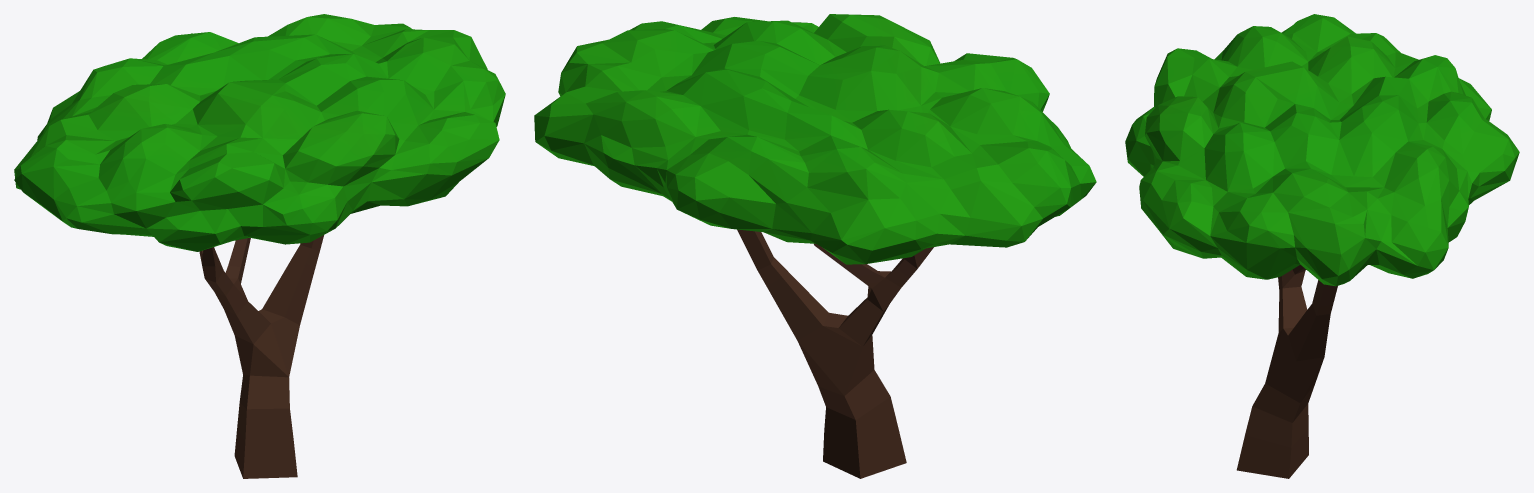
The model's file is trees A_01.fbx.
3 renders of one model, left to right at view 1: azimuth 30°, elevation 25°; view 2: azimuth 150°, elevation 25°; view 3: azimuth 270°, elevation 25°, orthographic. The views are drawn at different scales.
Parts seen in each view (by area): view 1: Tree.A_01; view 2: Tree.A_01; view 3: Tree.A_01.
Boxes of the visible parts, x1=… form: Tree.A_01: x1=14, y1=14, x2=505, y2=478; Tree.A_01: x1=534, y1=14, x2=1096, y2=478; Tree.A_01: x1=1125, y1=14, x2=1519, y2=478.
Size of the model in its own units: 1180 by 914 by 847.
